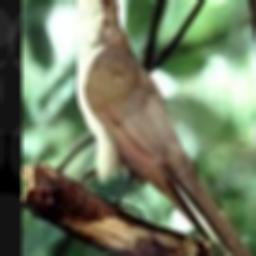Cuckoo: (59, 0, 256, 256)
